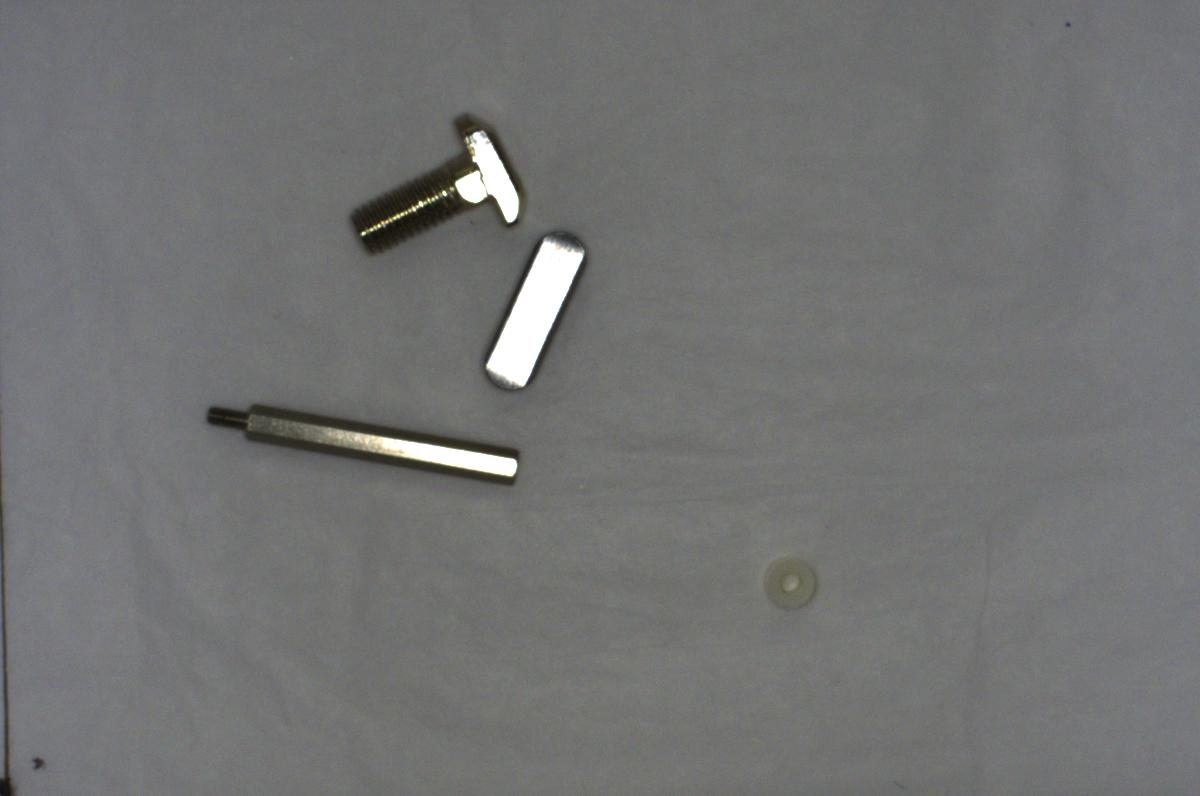Hexagonal steel column: (191, 393, 530, 501)
Keybar: (473, 229, 593, 395)
Plastic cushion pillar: (752, 542, 841, 615)
T-shaped screw: (339, 107, 526, 259)
